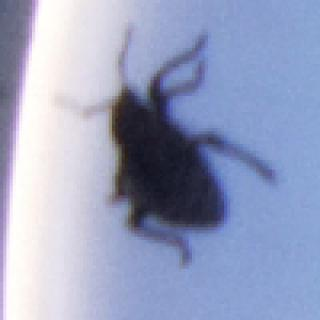bvw: (50, 24, 276, 270)
